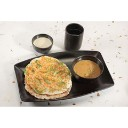dosa: (25, 57, 72, 99)
